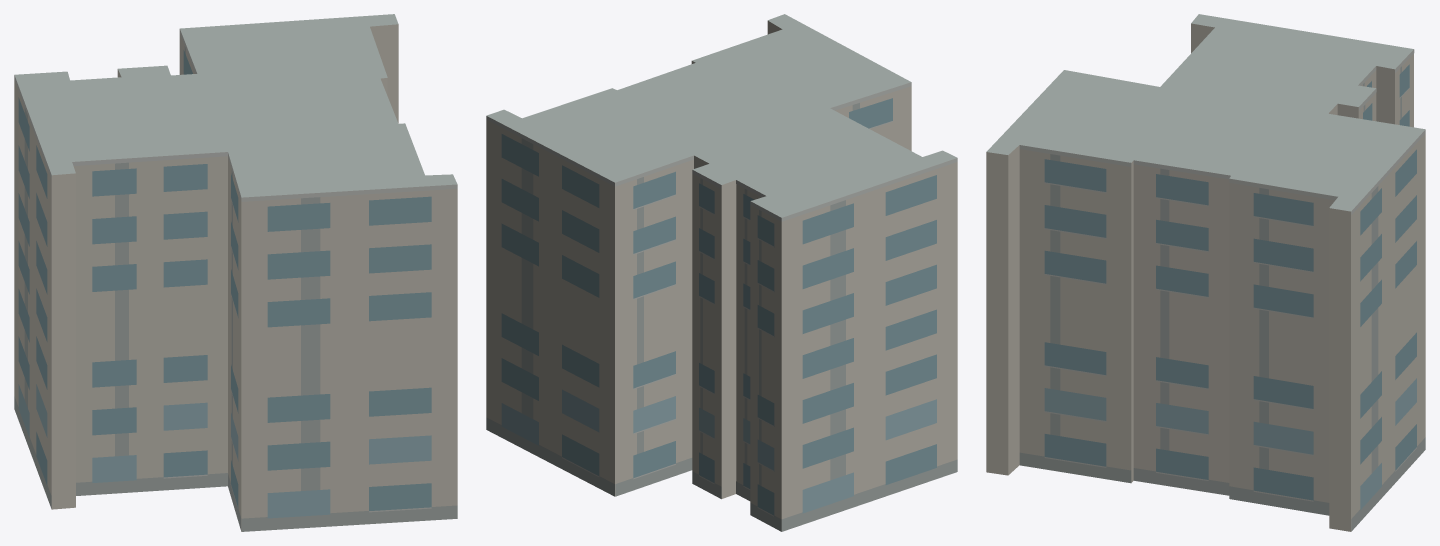
The model's file is survey-upis-32943429.glb.
3 views of the same model, side by side, from view 1: azimuth 30°, elevation 25°; view 2: azimuth 150°, elevation 25°; view 3: azimuth 270°, elevation 25° (orthographic). The views are drawn at different scales.
Parts seen in each view (by area): view 1: survey-upis-32943429.tmp; view 2: survey-upis-32943429.tmp; view 3: survey-upis-32943429.tmp.
Part boxes in pixels (<box>): survey-upis-32943429.tmp: <box>14,14,457,531</box>; survey-upis-32943429.tmp: <box>486,14,957,531</box>; survey-upis-32943429.tmp: <box>986,14,1425,531</box>.
Bounding box in the file's own units: 25 × 18.9 × 23.5.
